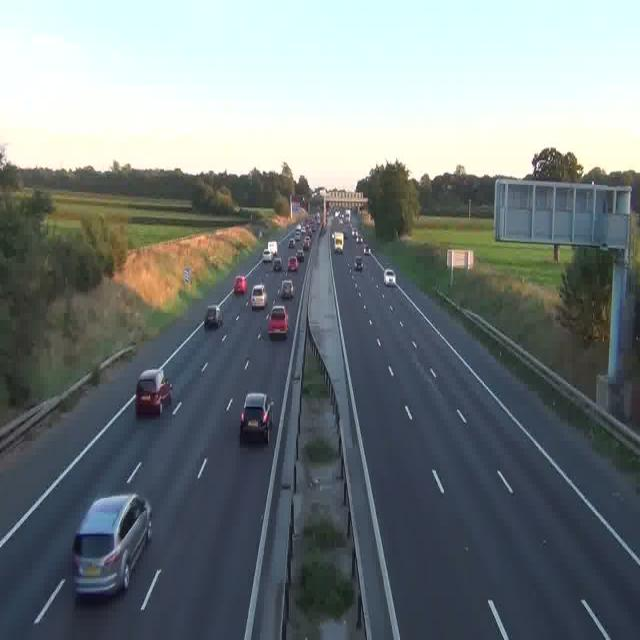car: (71, 494, 152, 598), (135, 369, 171, 417), (240, 394, 272, 444), (268, 305, 288, 339), (251, 282, 268, 308), (203, 305, 222, 328), (280, 274, 295, 293), (234, 277, 248, 295), (384, 268, 396, 286), (289, 256, 300, 272), (352, 254, 362, 270), (271, 257, 282, 270), (297, 245, 307, 258), (364, 242, 372, 253)
